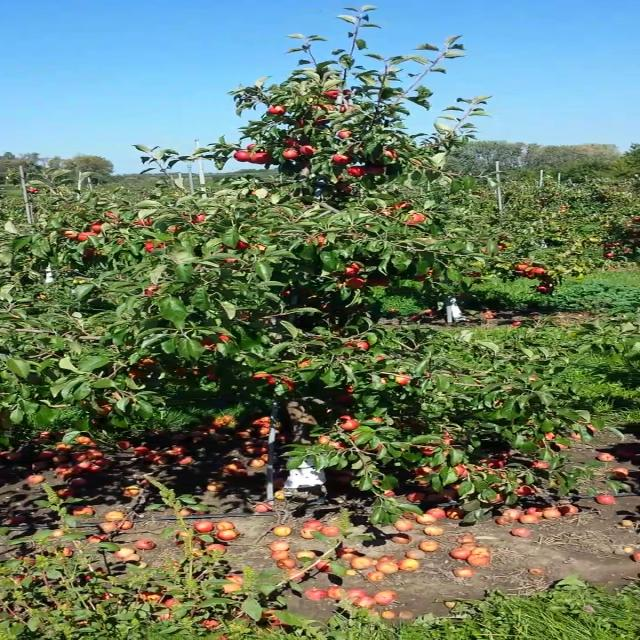apple: (340, 414, 358, 430), (478, 460, 506, 470), (199, 337, 218, 351), (415, 466, 434, 478), (250, 152, 268, 164), (486, 492, 504, 504), (127, 368, 148, 378), (332, 155, 352, 165), (146, 242, 164, 253), (206, 365, 220, 379), (518, 484, 534, 496), (233, 151, 250, 162), (82, 247, 95, 261), (453, 464, 468, 476), (348, 277, 366, 287), (346, 262, 361, 274), (408, 213, 426, 223), (336, 393, 355, 402), (77, 232, 98, 240), (348, 166, 364, 176), (366, 164, 382, 174), (284, 148, 300, 158), (312, 105, 338, 111), (253, 373, 275, 380), (270, 105, 284, 115), (237, 239, 250, 249), (394, 376, 410, 384), (530, 267, 546, 275), (530, 462, 551, 468), (356, 342, 371, 350), (101, 402, 114, 411), (330, 440, 344, 448), (338, 185, 352, 193), (302, 146, 316, 154), (284, 139, 298, 147), (340, 105, 354, 113), (92, 222, 103, 232), (217, 333, 230, 341), (174, 368, 187, 376), (552, 443, 569, 449), (282, 379, 292, 389), (64, 230, 76, 238), (140, 358, 156, 364), (570, 433, 582, 441), (326, 90, 341, 96), (138, 218, 152, 224), (338, 131, 352, 137), (522, 272, 536, 278), (194, 214, 204, 222), (146, 286, 156, 294), (268, 376, 278, 384), (320, 435, 330, 443), (386, 150, 396, 158), (588, 424, 598, 432), (297, 358, 310, 364), (444, 431, 450, 443), (420, 448, 434, 453), (395, 202, 406, 208), (546, 432, 554, 440), (282, 290, 290, 298), (108, 212, 118, 218), (415, 275, 425, 281), (379, 279, 389, 285), (246, 144, 256, 150), (351, 432, 358, 440), (190, 368, 198, 375), (516, 264, 527, 269), (373, 443, 382, 449), (346, 342, 356, 347), (318, 236, 324, 244), (373, 417, 384, 421), (348, 385, 354, 392), (27, 187, 37, 191), (538, 286, 548, 290), (379, 355, 385, 361), (382, 377, 388, 383), (318, 116, 324, 122), (300, 118, 304, 126), (497, 245, 503, 250), (172, 226, 178, 230), (226, 259, 236, 261), (338, 175, 343, 179)
